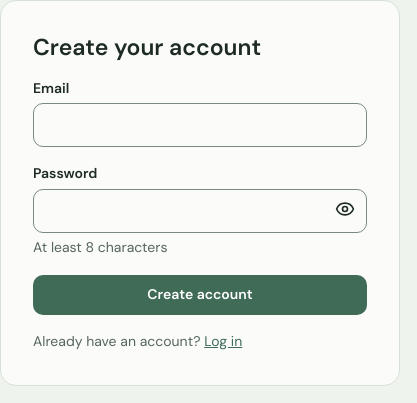
Scenario: Register › without a session goes to /check-inbox and shows the email
Type "new@b.co" into the field labelled "Email" at (200, 125), box [33,103,367,147]
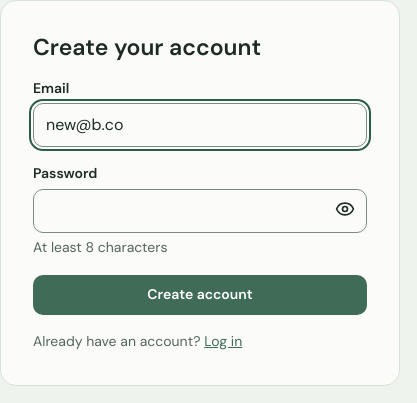
Type "secret12" into the password field labelled "Password" at (200, 211), box [33,189,367,233]
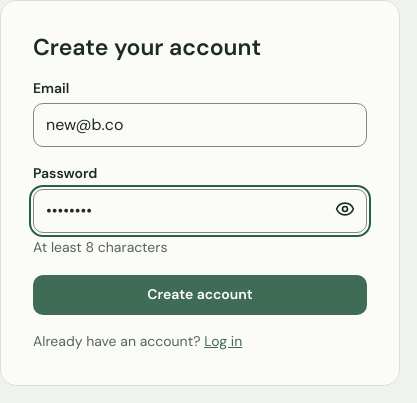
Click the button "Create account" at (200, 295), box [33,275,367,315]
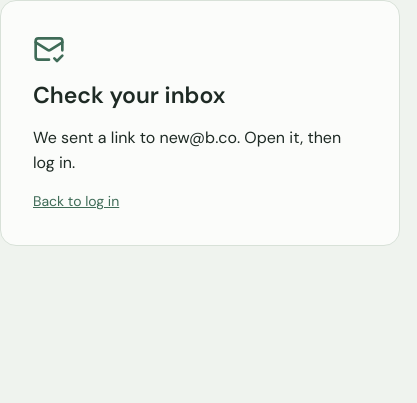
Expected: the text "We sent a link to new@b.co. Open it, then log in." is shown, [33,126,367,175]
